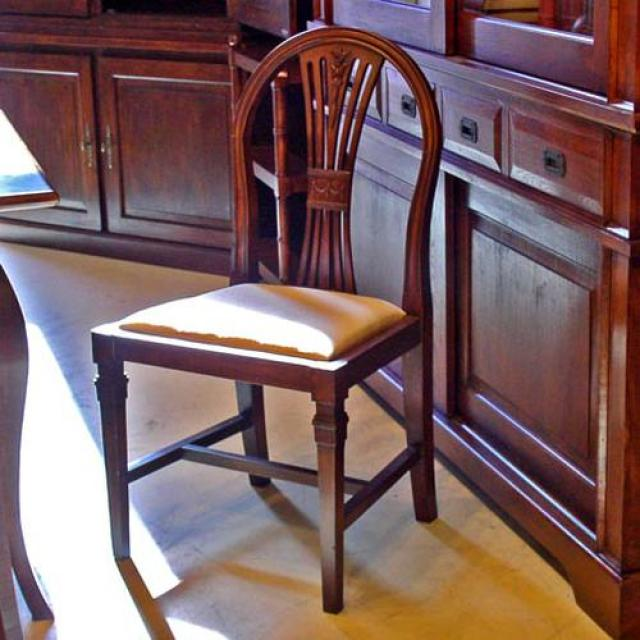chair: (91, 27, 442, 617)
